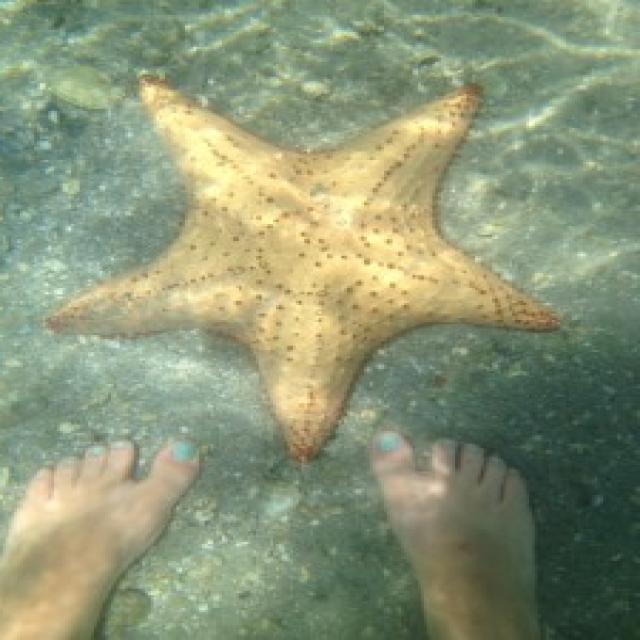Starfish: (36, 32, 605, 435)
